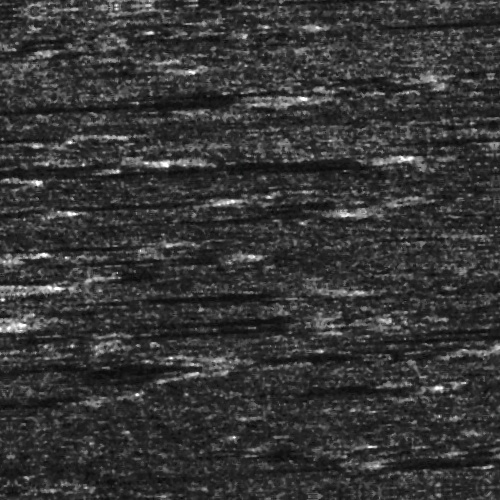object: (26, 118, 171, 131), (150, 193, 285, 204), (139, 149, 254, 160), (226, 91, 319, 102), (411, 351, 500, 362), (372, 388, 455, 399), (128, 234, 211, 243), (0, 271, 80, 280), (365, 157, 428, 168), (213, 249, 266, 260), (0, 235, 48, 246), (327, 465, 380, 474), (139, 61, 222, 66), (486, 17, 500, 46), (353, 286, 364, 297)
shadow: (86, 157, 396, 168), (2, 0, 500, 6), (27, 91, 273, 102), (0, 193, 217, 204), (41, 249, 239, 260), (1, 149, 196, 160), (167, 286, 358, 297), (298, 351, 483, 362), (435, 17, 500, 46), (288, 388, 413, 399), (0, 118, 98, 131), (33, 234, 169, 243), (225, 465, 353, 474), (434, 331, 500, 348), (424, 131, 500, 136), (118, 61, 180, 66), (439, 145, 500, 150), (448, 411, 500, 416)
